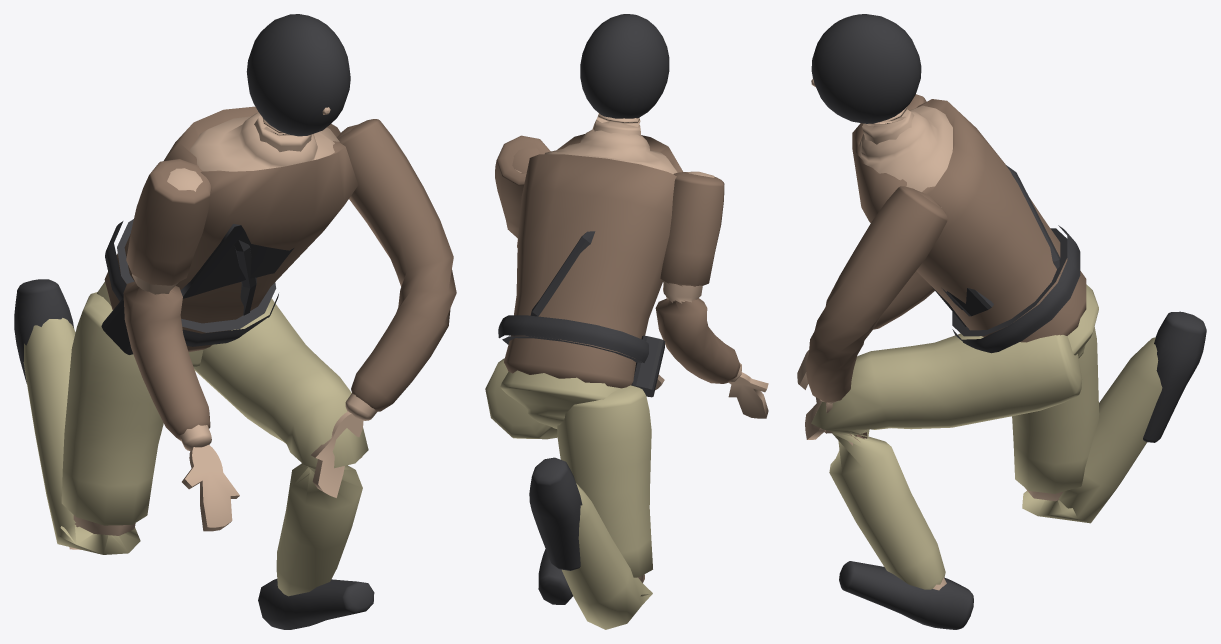
The model's file is tactical-shooter-hill-town-veteran-planting-80bf1253__27594.glb.
3 views of the same model, side by side, from view 1: azimuth 30°, elevation 25°; view 2: azimuth 150°, elevation 25°; view 3: azimuth 270°, elevation 25° (orthographic). The views are drawn at different scales.
Visible parts, largest first — view 1: veteran-planting; view 2: veteran-planting; view 3: veteran-planting.
Part boxes in pixels (bbox=[...]): veteran-planting: bbox=[14, 14, 456, 629]; veteran-planting: bbox=[485, 14, 768, 629]; veteran-planting: bbox=[797, 14, 1206, 629].
Size of the model in its own units: 0.6131 by 1.34 by 0.8324.
